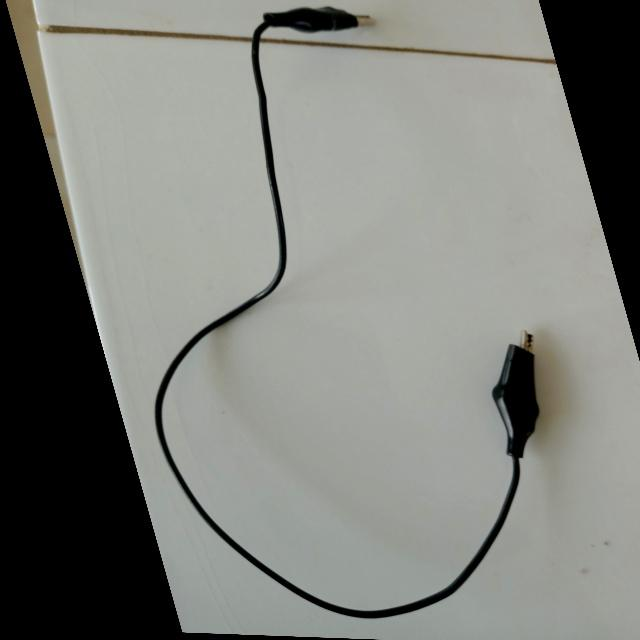BNC Cables Both Clips: (11, 0, 640, 636)
